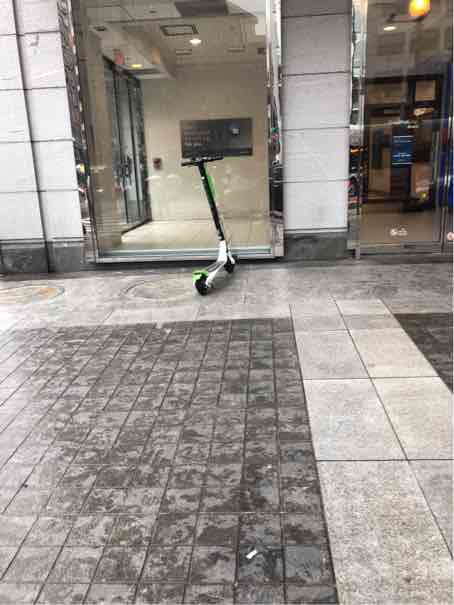scooter: (177, 146, 250, 297)
